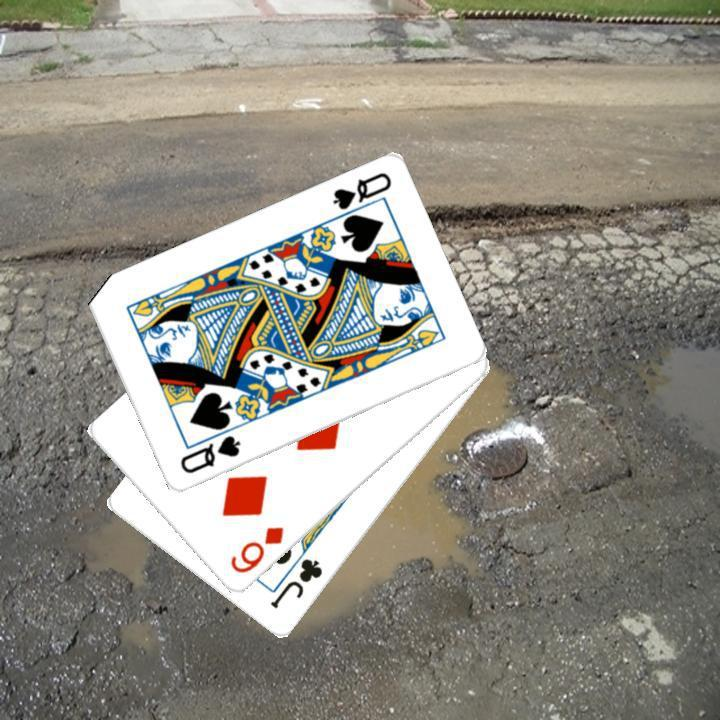6: (226, 522, 286, 576)
J: (266, 554, 325, 612)
Q: (175, 431, 243, 476), (328, 168, 394, 213)
